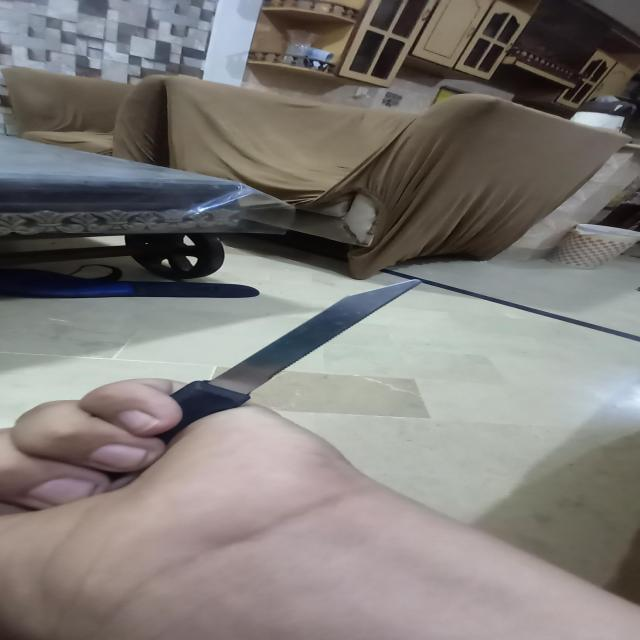faca: (166, 277, 427, 423)
